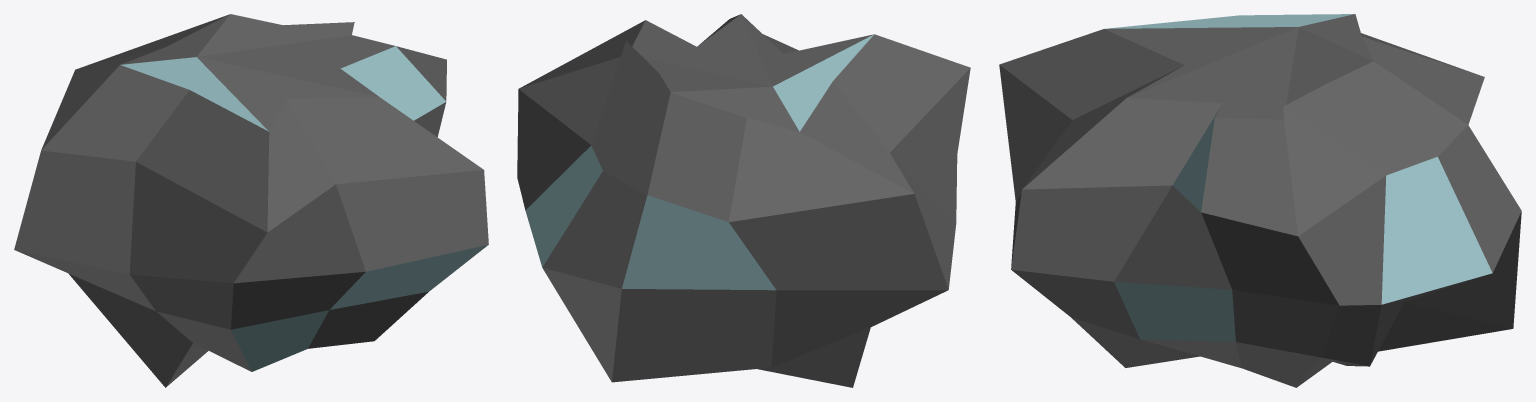
Rendered from iron_ore_.fbx.
3 renders of one model, left to right at view 1: azimuth 30°, elevation 25°; view 2: azimuth 150°, elevation 25°; view 3: azimuth 270°, elevation 25°, orthographic. The views are drawn at different scales.
Parts seen in each view (by area): view 1: IronOre; view 2: IronOre; view 3: IronOre.
Part boxes in pixels (x1=…): IronOre: x1=14, y1=14, x2=488, y2=387; IronOre: x1=517, y1=14, x2=970, y2=387; IronOre: x1=999, y1=14, x2=1521, y2=387.
Size of the model in its own units: 233 by 158 by 219.
